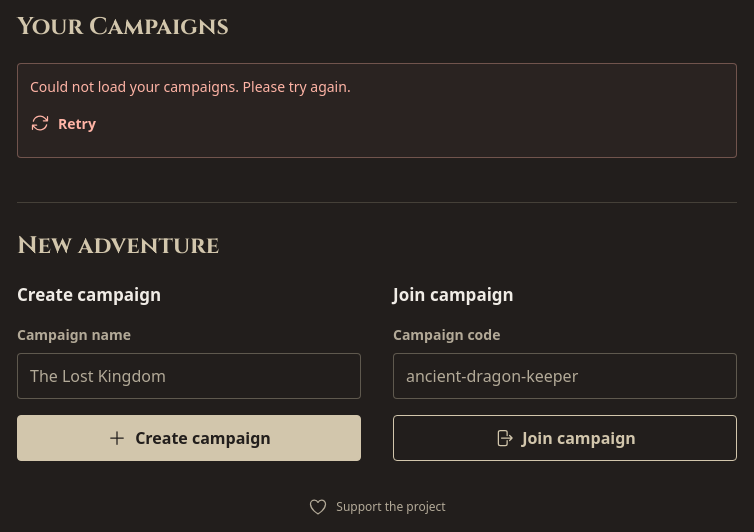
a failed fetch is distinct from an empty list and can be retried
Check: the message shows "Could not load your campaigns", box x1=30 y1=77 x2=351 y2=96
Check: the text "You have no campaigns yet." is not shown
Click the button "Retry".
click(63, 123)  # box x1=30 y1=101 x2=96 y2=145
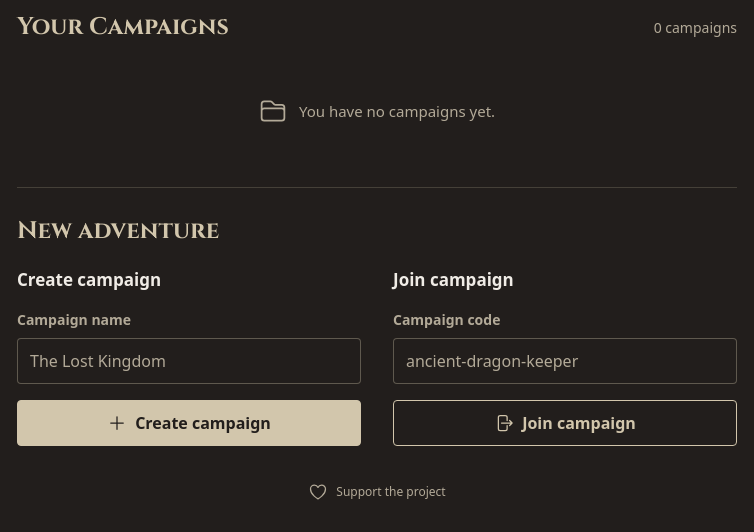
Check: the message "Could not load your campaigns. Please try again. Retry" is gone
Check: the text "You have no campaigns yet." is shown, box x1=299 y1=100 x2=495 y2=122
